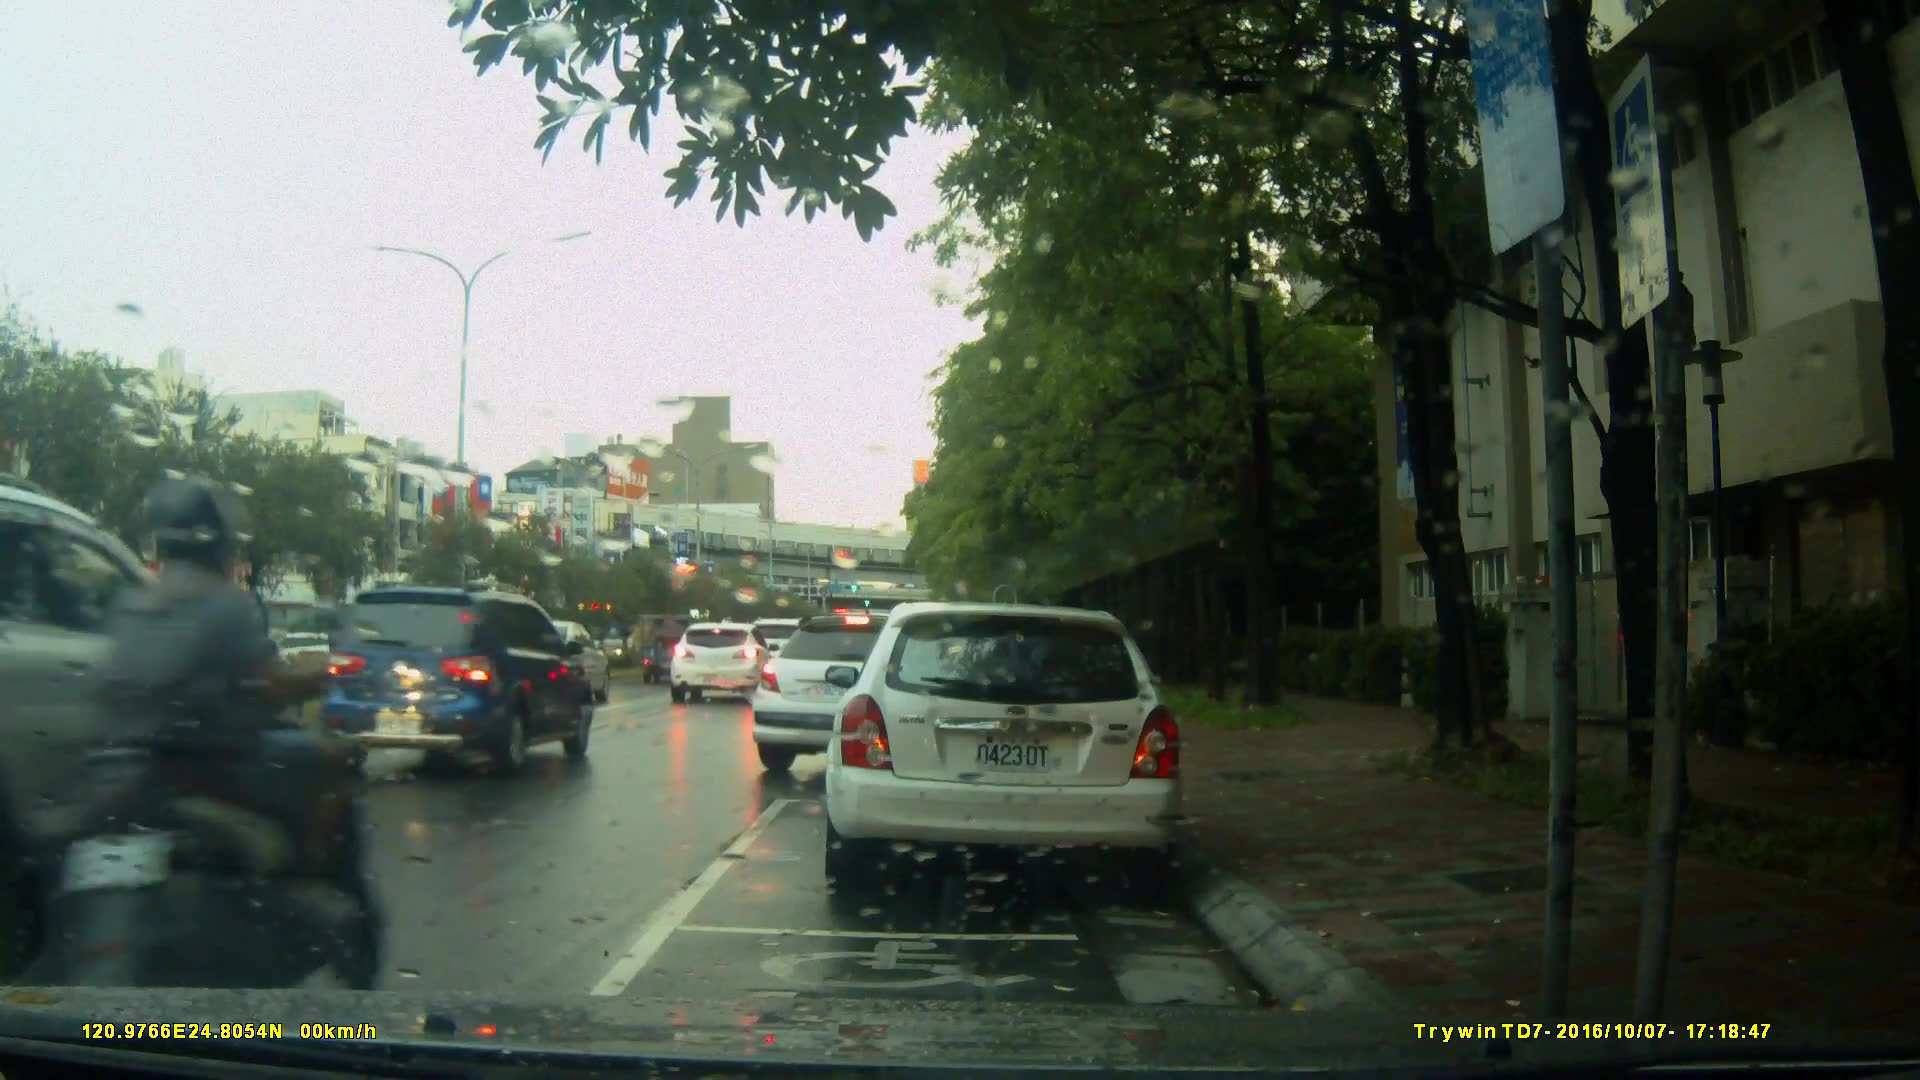rider: (59, 471, 379, 1037)
vehicle: (1, 470, 306, 965), (820, 602, 1188, 898), (314, 578, 598, 776), (744, 612, 1025, 785), (669, 620, 772, 706)
